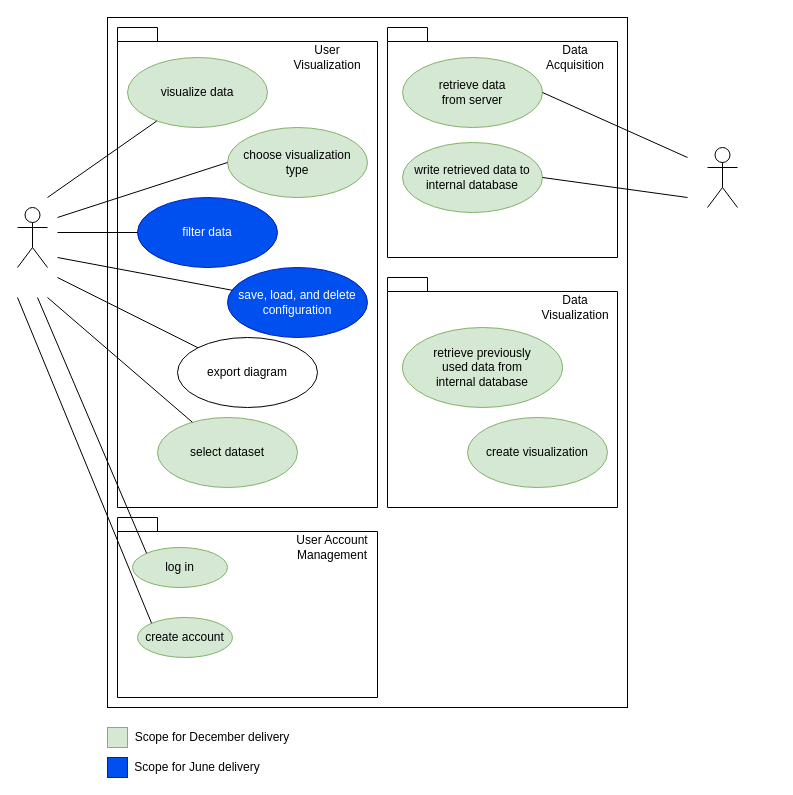
Some shapes in this 793 by 795 pixel diagram are drawn without their labels. Here are the shapes that lost their labels. From the top down, the centre of each, then its label:
At point (722, 177): "Social Media Server".
At point (32, 237): "User".
